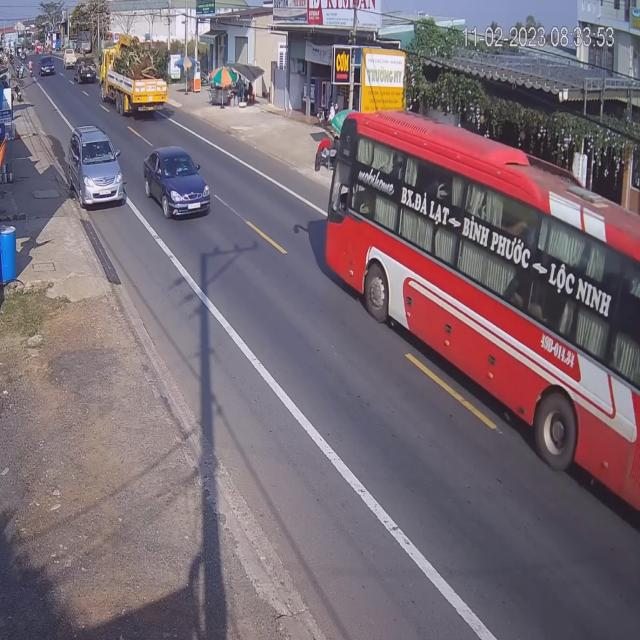bus: (331, 103, 640, 508)
car: (147, 147, 215, 224), (68, 125, 125, 208), (75, 56, 97, 85), (40, 56, 55, 78)
truck: (101, 38, 166, 116), (64, 47, 76, 69)
